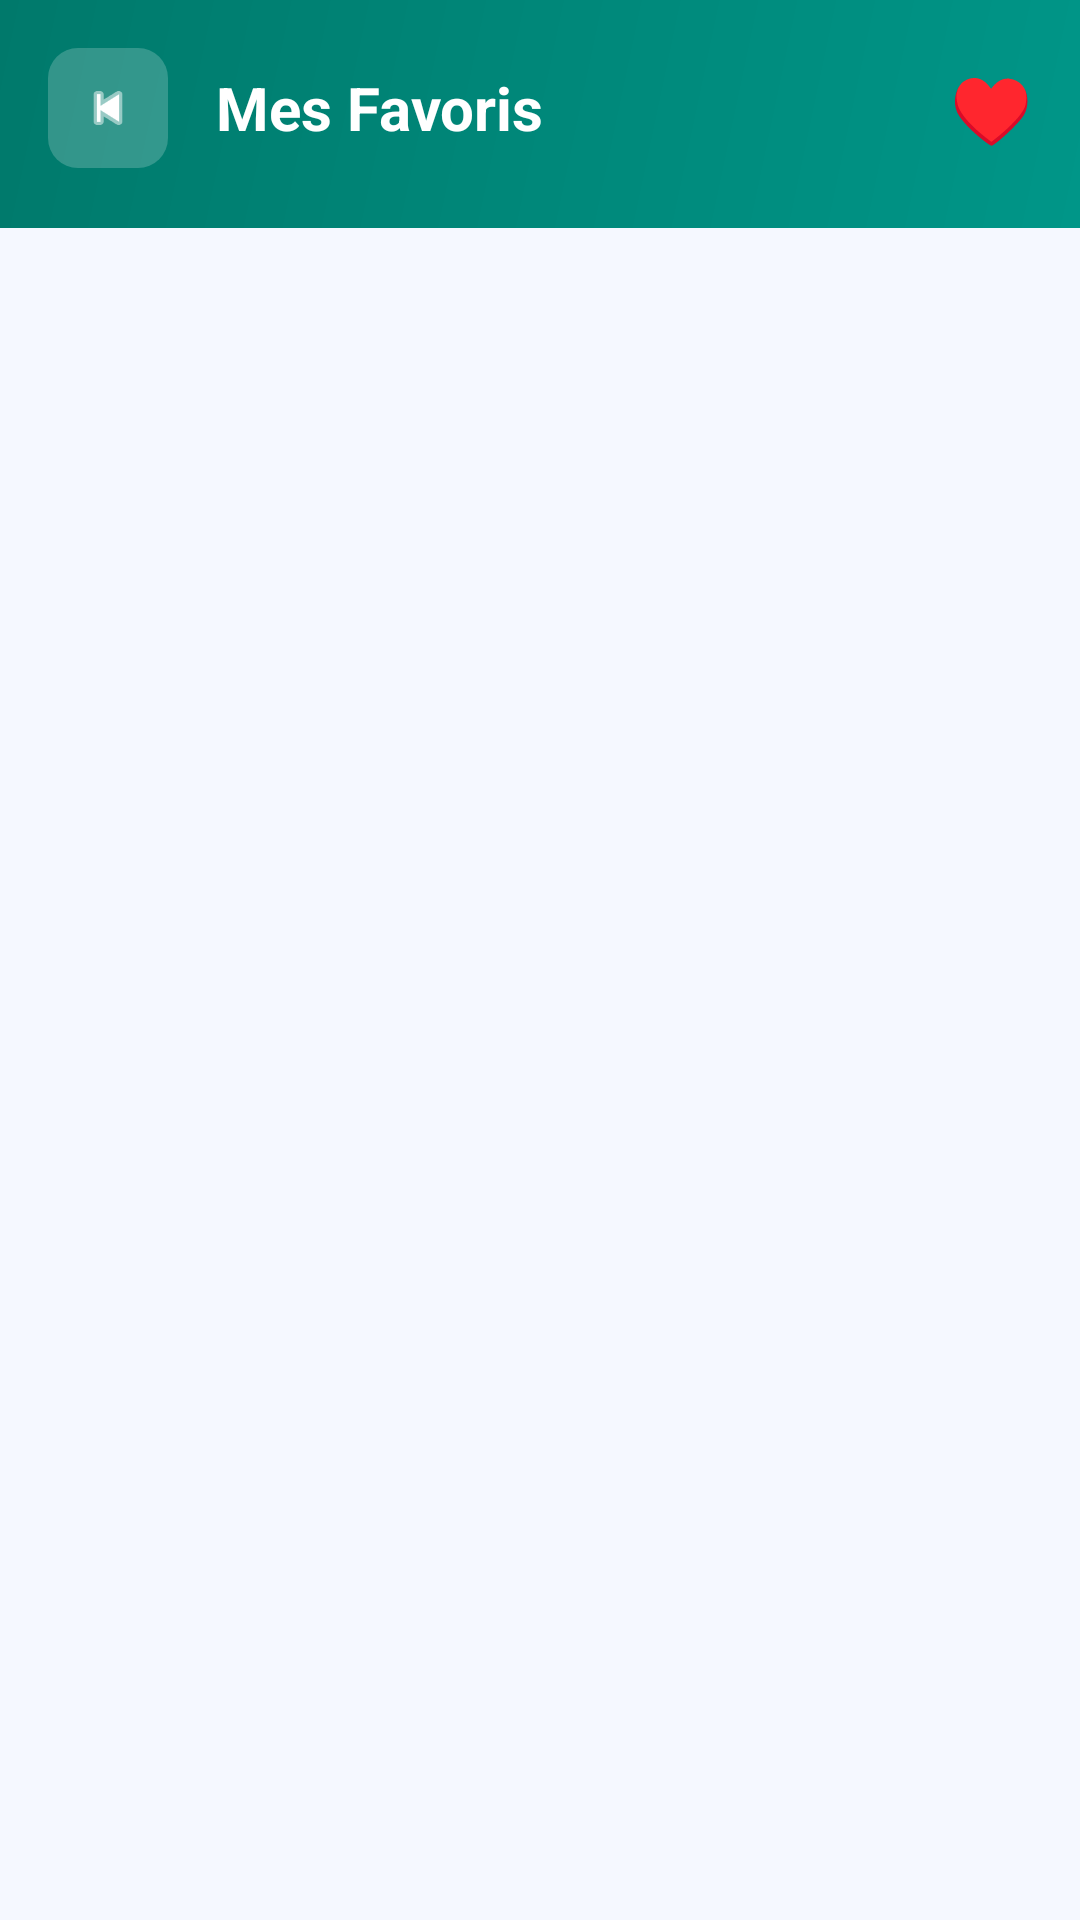

Locate icon controls on the screen. Image size 1080×1920, boxes as (x1,y1,x2,y2).
previous: (48,48,168,168)
